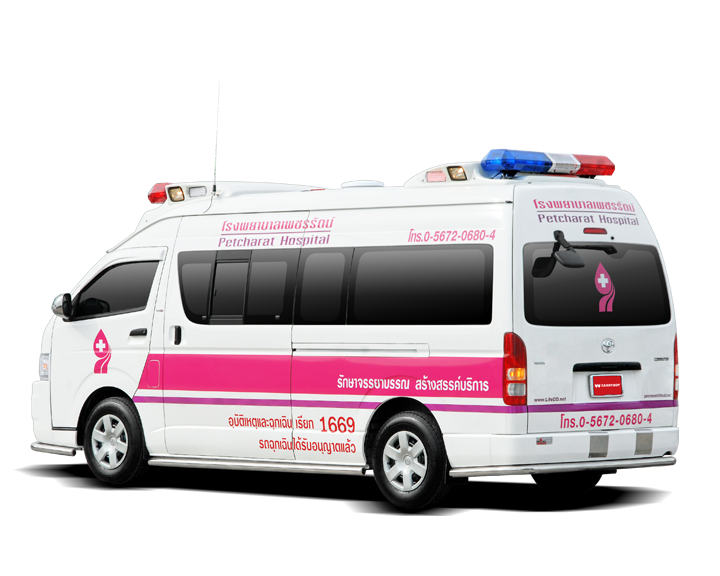van: (27, 149, 683, 512)
